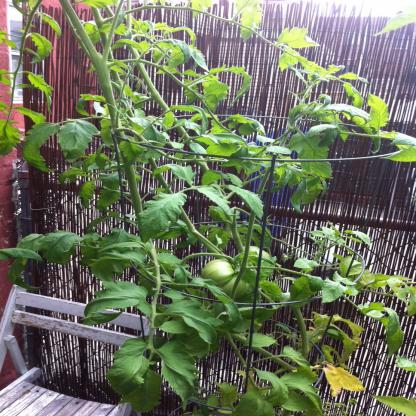tomato leaf: (136, 188, 193, 238), (57, 119, 103, 171), (295, 133, 340, 183), (109, 353, 150, 396), (220, 182, 265, 221), (86, 285, 146, 313), (160, 348, 201, 380)
